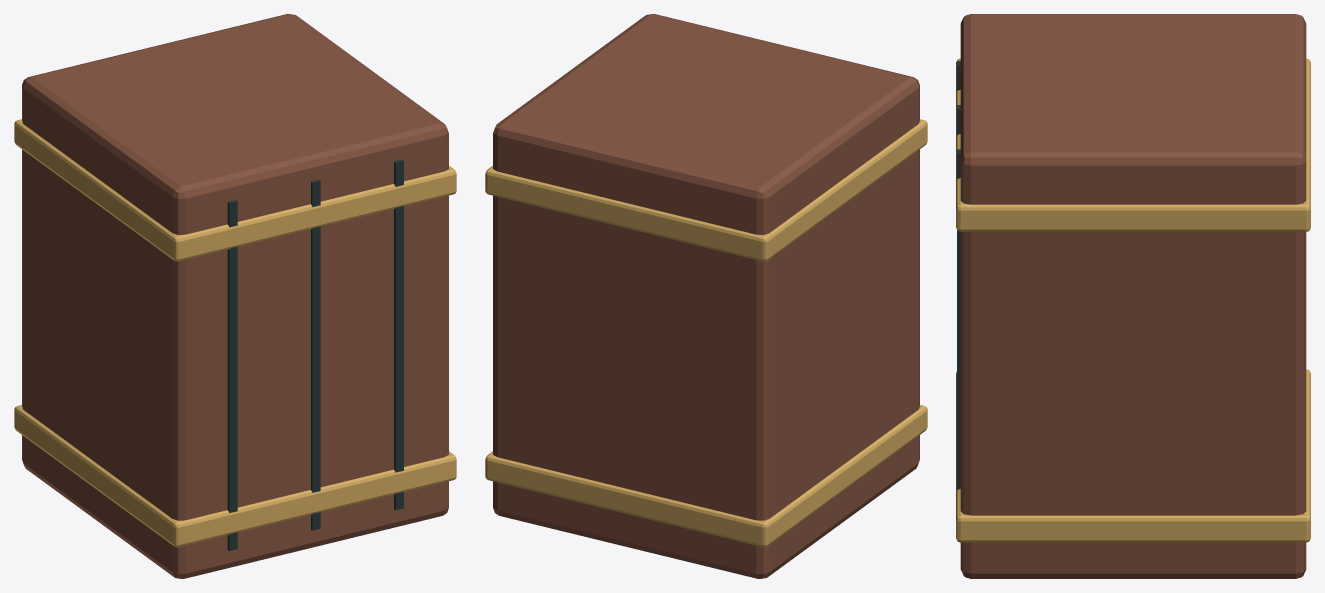
Rendered from timber.glb.
3 renders of one model, left to right at view 1: azimuth 30°, elevation 25°; view 2: azimuth 150°, elevation 25°; view 3: azimuth 270°, elevation 25°, orthographic. The views are drawn at different scales.
Visible parts, largest first — view 1: timber_solid; view 2: timber_solid; view 3: timber_solid.
Part boxes in pixels (<box>): timber_solid: <box>14,14,456,578</box>; timber_solid: <box>485,14,927,578</box>; timber_solid: <box>956,14,1310,578</box>.
Bounding box in the file's own units: 1.19 × 1.58 × 1.19.
